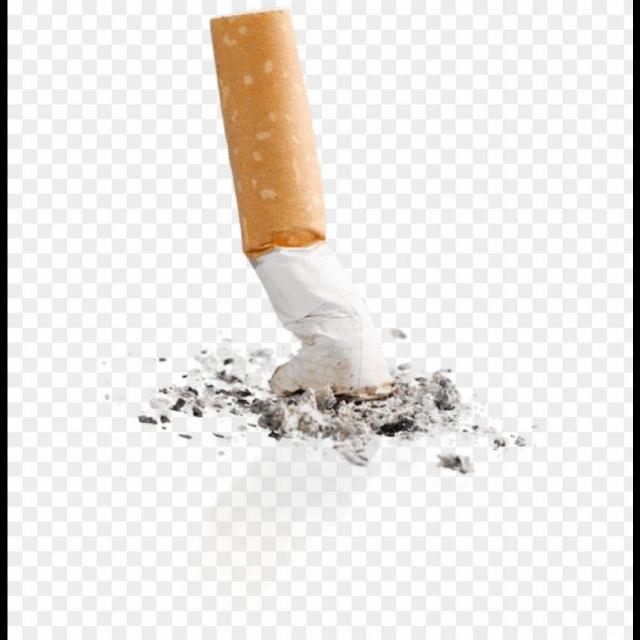cigarette: (210, 8, 395, 399)
